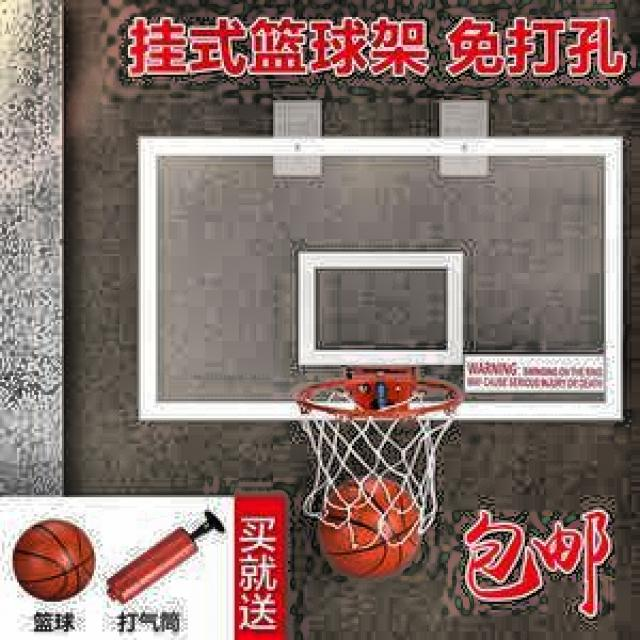board: (321, 478, 421, 578), (11, 518, 96, 600)
rim: (299, 384, 465, 527)
